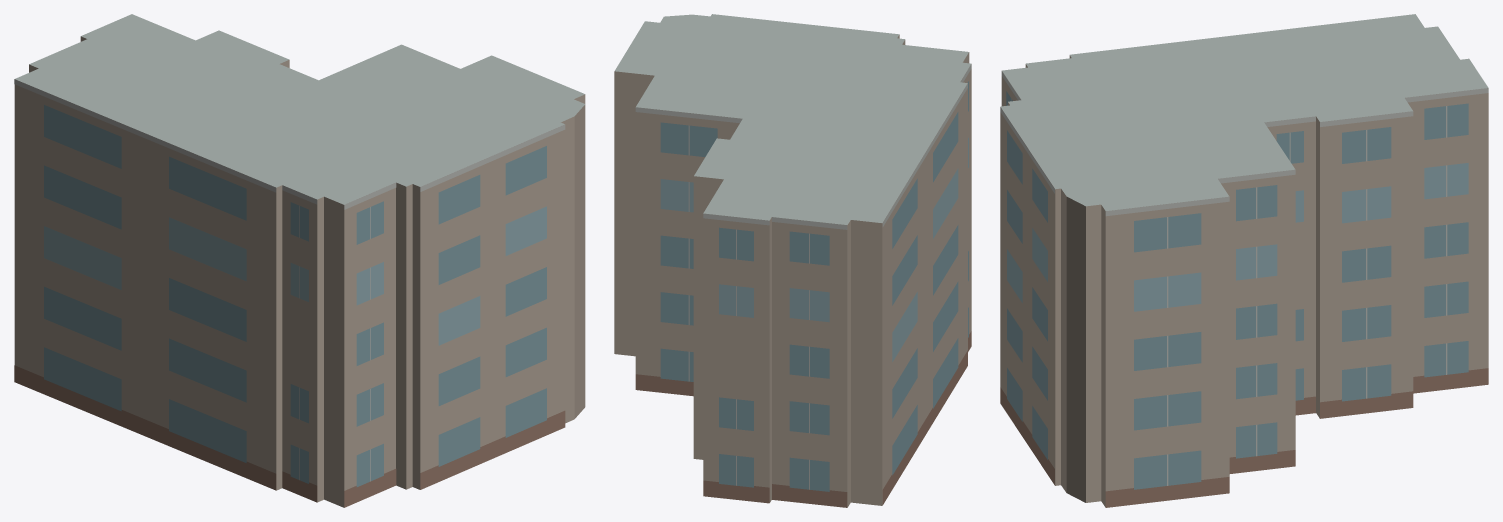
The model's file is survey-upis-32520538.glb.
The picture shows the model from 3 angles, left to right: view 1: azimuth 30°, elevation 25°; view 2: azimuth 150°, elevation 25°; view 3: azimuth 270°, elevation 25°; orthographic projection. The views are drawn at different scales.
Visible parts, largest first — view 1: survey-upis-32520538.tmp; view 2: survey-upis-32520538.tmp; view 3: survey-upis-32520538.tmp.
Part boxes in pixels (x1,y1,x2,y2): survey-upis-32520538.tmp: (14,14,585,507); survey-upis-32520538.tmp: (614,14,971,507); survey-upis-32520538.tmp: (1000,14,1488,507).
Bounding box in the file's own units: 20.39 × 14.3 × 21.34.
